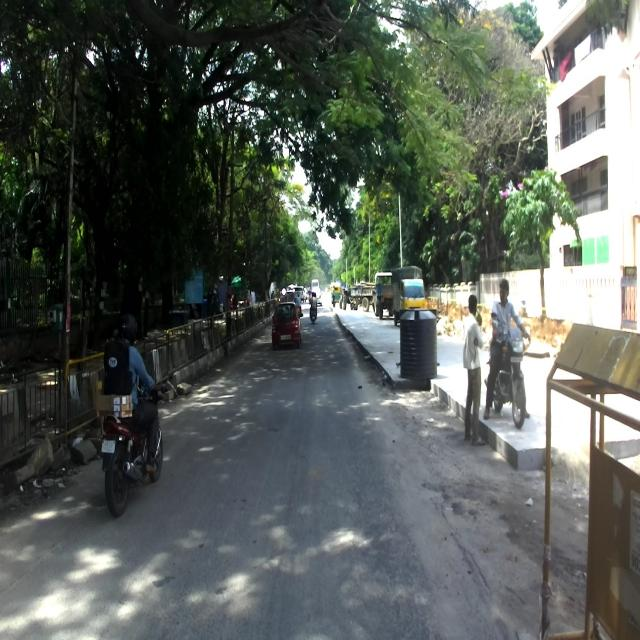motorcycle: (101, 369, 167, 517), (484, 312, 528, 428)
